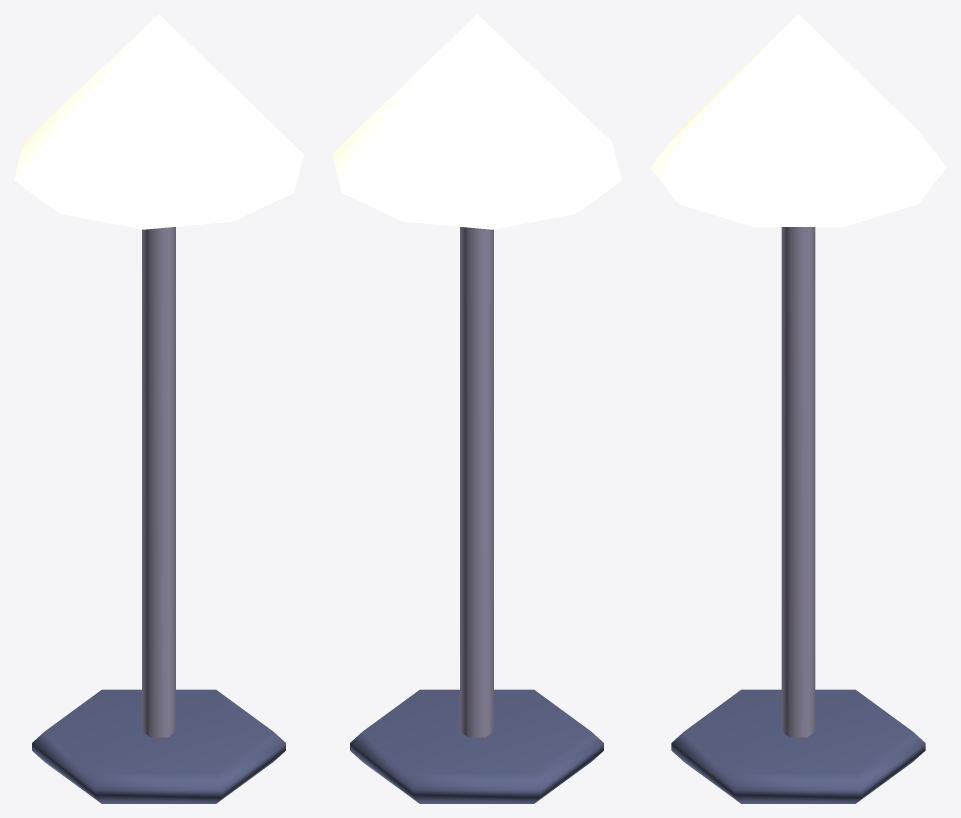
File: floor-lamp.glb
The picture shows the model from 3 angles, left to right: view 1: azimuth 30°, elevation 25°; view 2: azimuth 150°, elevation 25°; view 3: azimuth 270°, elevation 25°; orthographic projection.
Parts seen in each view (by area): view 1: lamp-shade, part (×2); view 2: lamp-shade, part (×2); view 3: part (×2), lamp-shade.
Part boxes in pixels (x1,y1,x2,y2): lamp-shade: (14, 14, 303, 229); part (×2): (32, 227, 285, 803); lamp-shade: (332, 14, 621, 229); part (×2): (350, 227, 603, 803); part (×2): (671, 227, 925, 803); lamp-shade: (650, 14, 946, 226).
Bounding box in the file's own units: 0.6657 × 1.95 × 0.7.
Materials: 2 (2 with a texture image).
